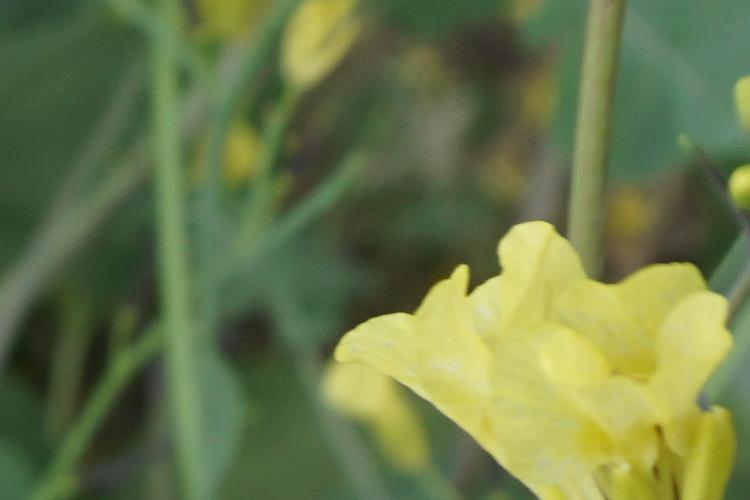yellow: (355, 231, 738, 491)
